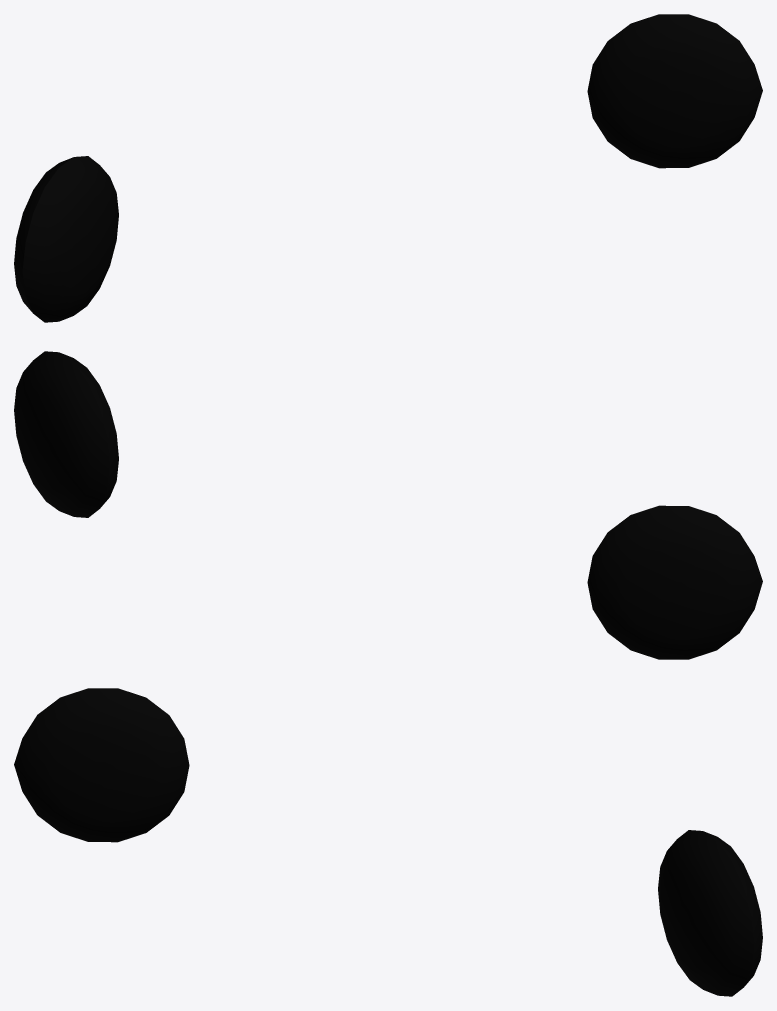
Rendered from Eyes_MM_Open_Round.fbx.
3 renders of one model, top to bottom at view 1: azimuth 30°, elevation 25°; view 2: azimuth 150°, elevation 25°; view 3: azimuth 330°, elevation 25°, orthographic.
Parts seen in each view (by area): view 1: Torus; view 2: Torus; view 3: Torus.
Boxes of the visible parts, <box> form: Torus: <box>14,14,762,322</box>; Torus: <box>14,351,762,659</box>; Torus: <box>14,688,762,996</box>.
Bounding box in the file's own units: 12.9 × 2.56 × 1.57.
Materials: 1 (1 with a texture image).
